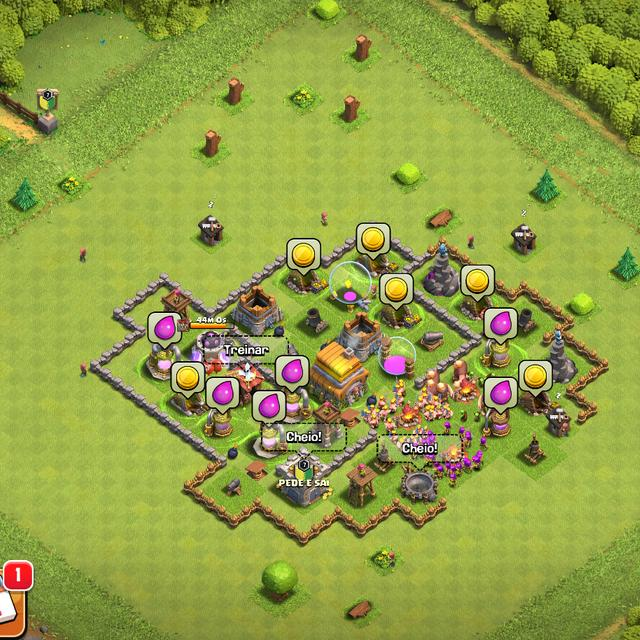Elixir: (483, 377, 519, 415), (485, 306, 519, 346), (274, 355, 309, 393), (148, 312, 182, 351), (208, 376, 239, 416), (253, 389, 286, 425)
coin: (520, 358, 554, 398), (356, 223, 391, 261), (380, 272, 414, 310), (288, 239, 322, 276), (463, 265, 495, 302), (173, 360, 204, 398)
